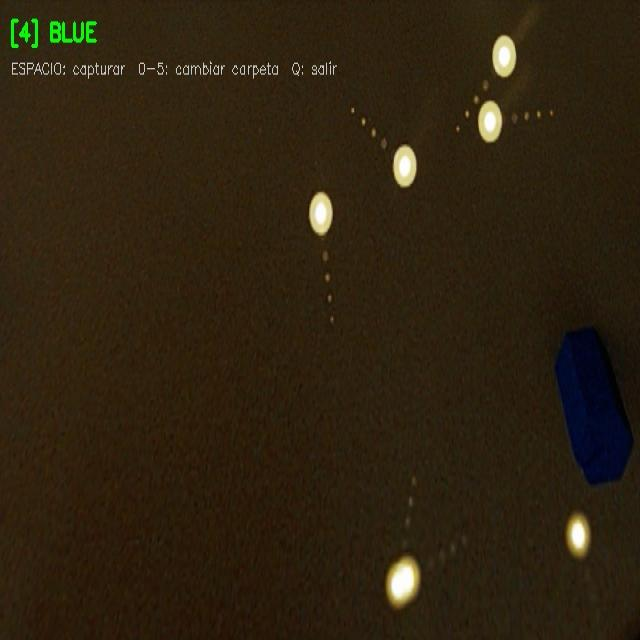blue: (553, 324, 634, 485)
